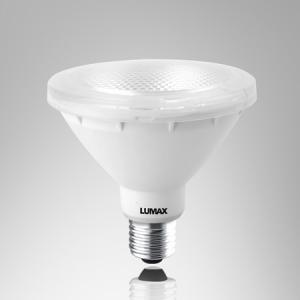Light_bulb: (43, 54, 265, 268)
